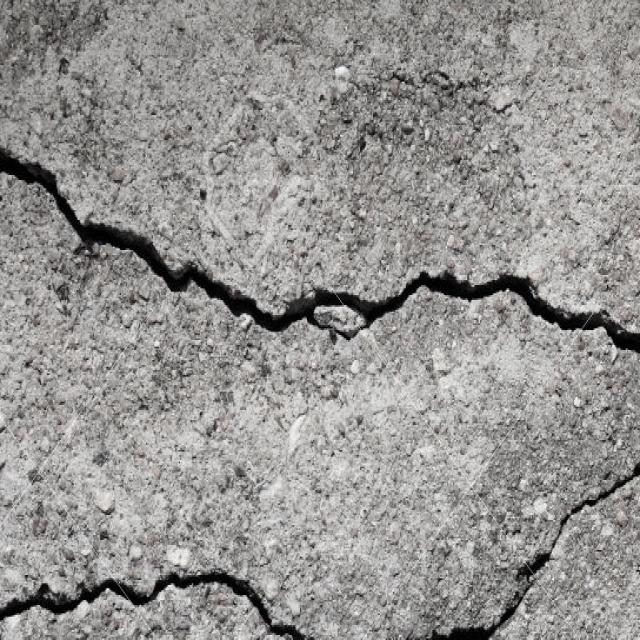crack: (4, 140, 635, 362), (1, 465, 639, 638)
